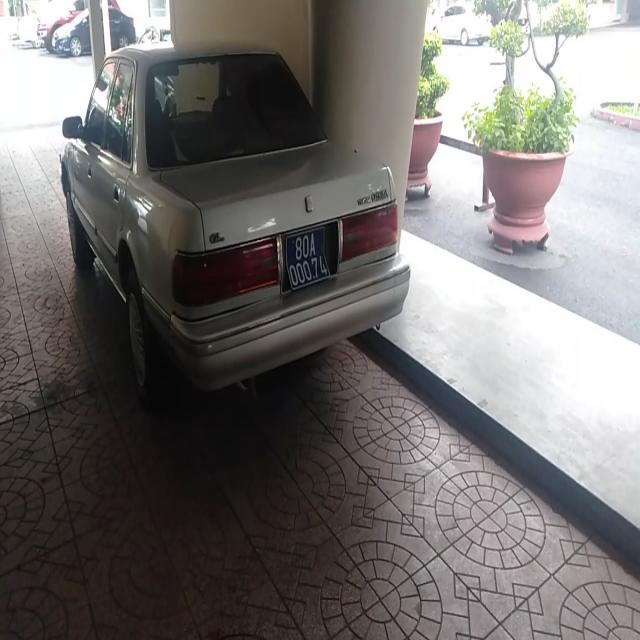bien_xanh: (282, 220, 336, 298)
